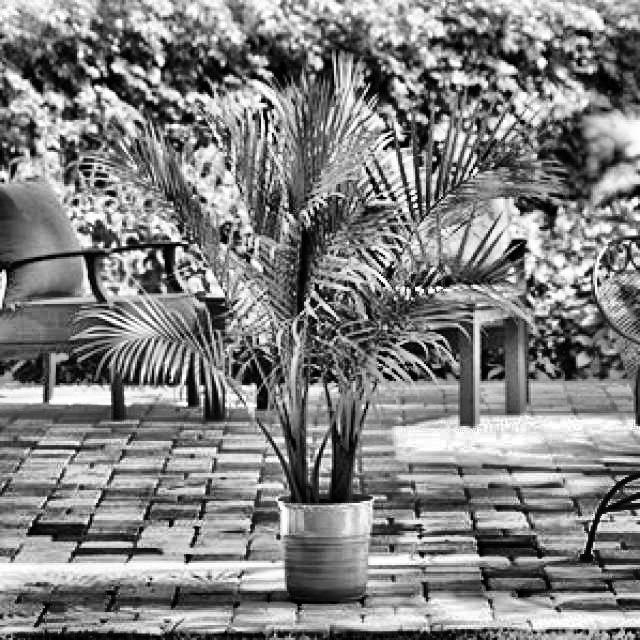plants: (220, 68, 408, 592)
